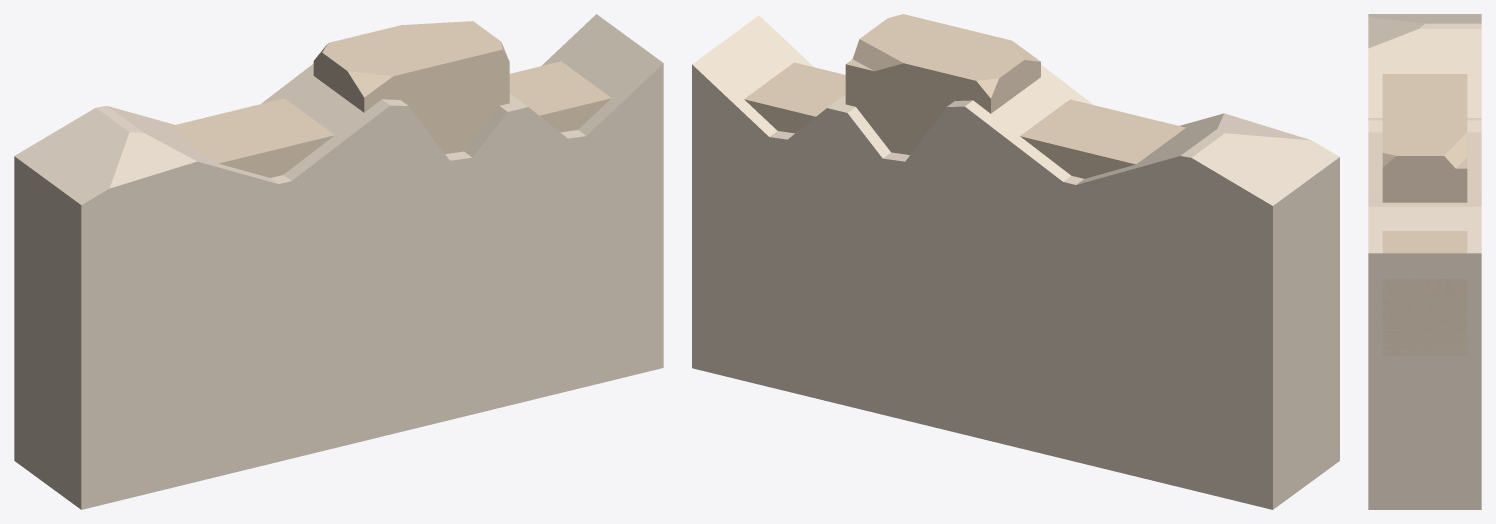
The model's file is temple_Wall_Ruined_Half_2.glb.
The picture shows the model from 3 angles, left to right: view 1: azimuth 30°, elevation 25°; view 2: azimuth 150°, elevation 25°; view 3: azimuth 270°, elevation 25°; orthographic projection. The views are drawn at different scales.
Parts seen in each view (by area): view 1: object1; view 2: object1; view 3: object1.
Part boxes in pixels (bbox=[...]): object1: bbox=[14, 14, 663, 509]; object1: bbox=[692, 14, 1339, 509]; object1: bbox=[1368, 14, 1481, 509].
Bounding box in the file's own units: 1 × 0.5734 × 0.2.
